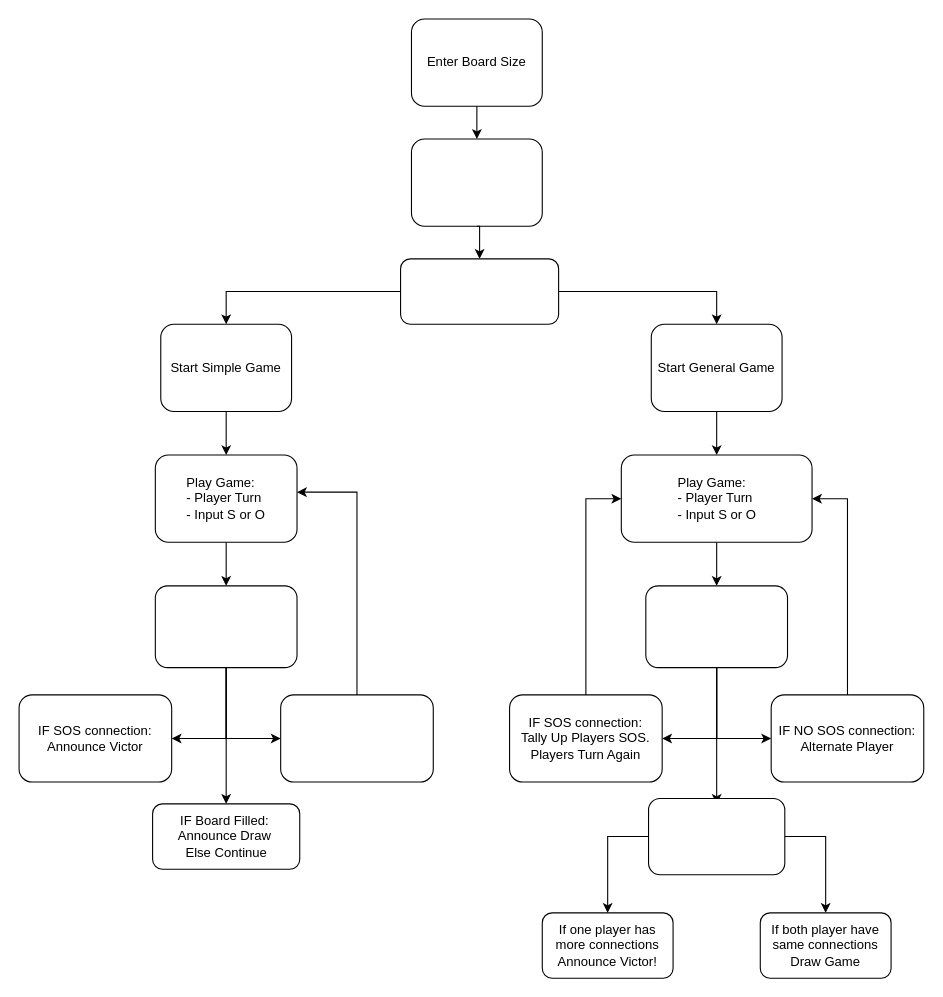
The diagram is 943 pixels wide and 997 high, and some of its shapes have lost their labels. The centre of each missing label's shape, as x and y in pixels:
Board Filled: Count SOS Connections: the point at 716,836
Check for SOS or TIE Condition: the point at 716,626
Check for WIN or TIE Condition: the point at 225,626
IF NO SOS connection Alternate Player: the point at 356,738
Select AI or Player: the point at 479,291
Select Simple or General Game: the point at 476,182
